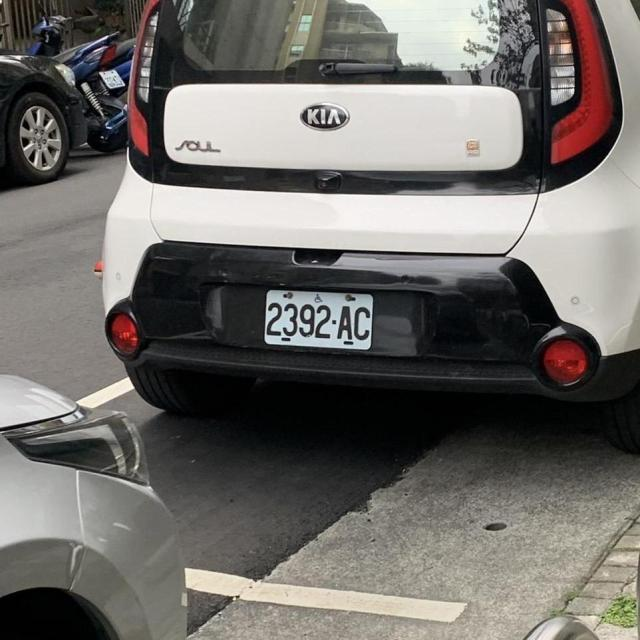W: (258, 282, 377, 356)
